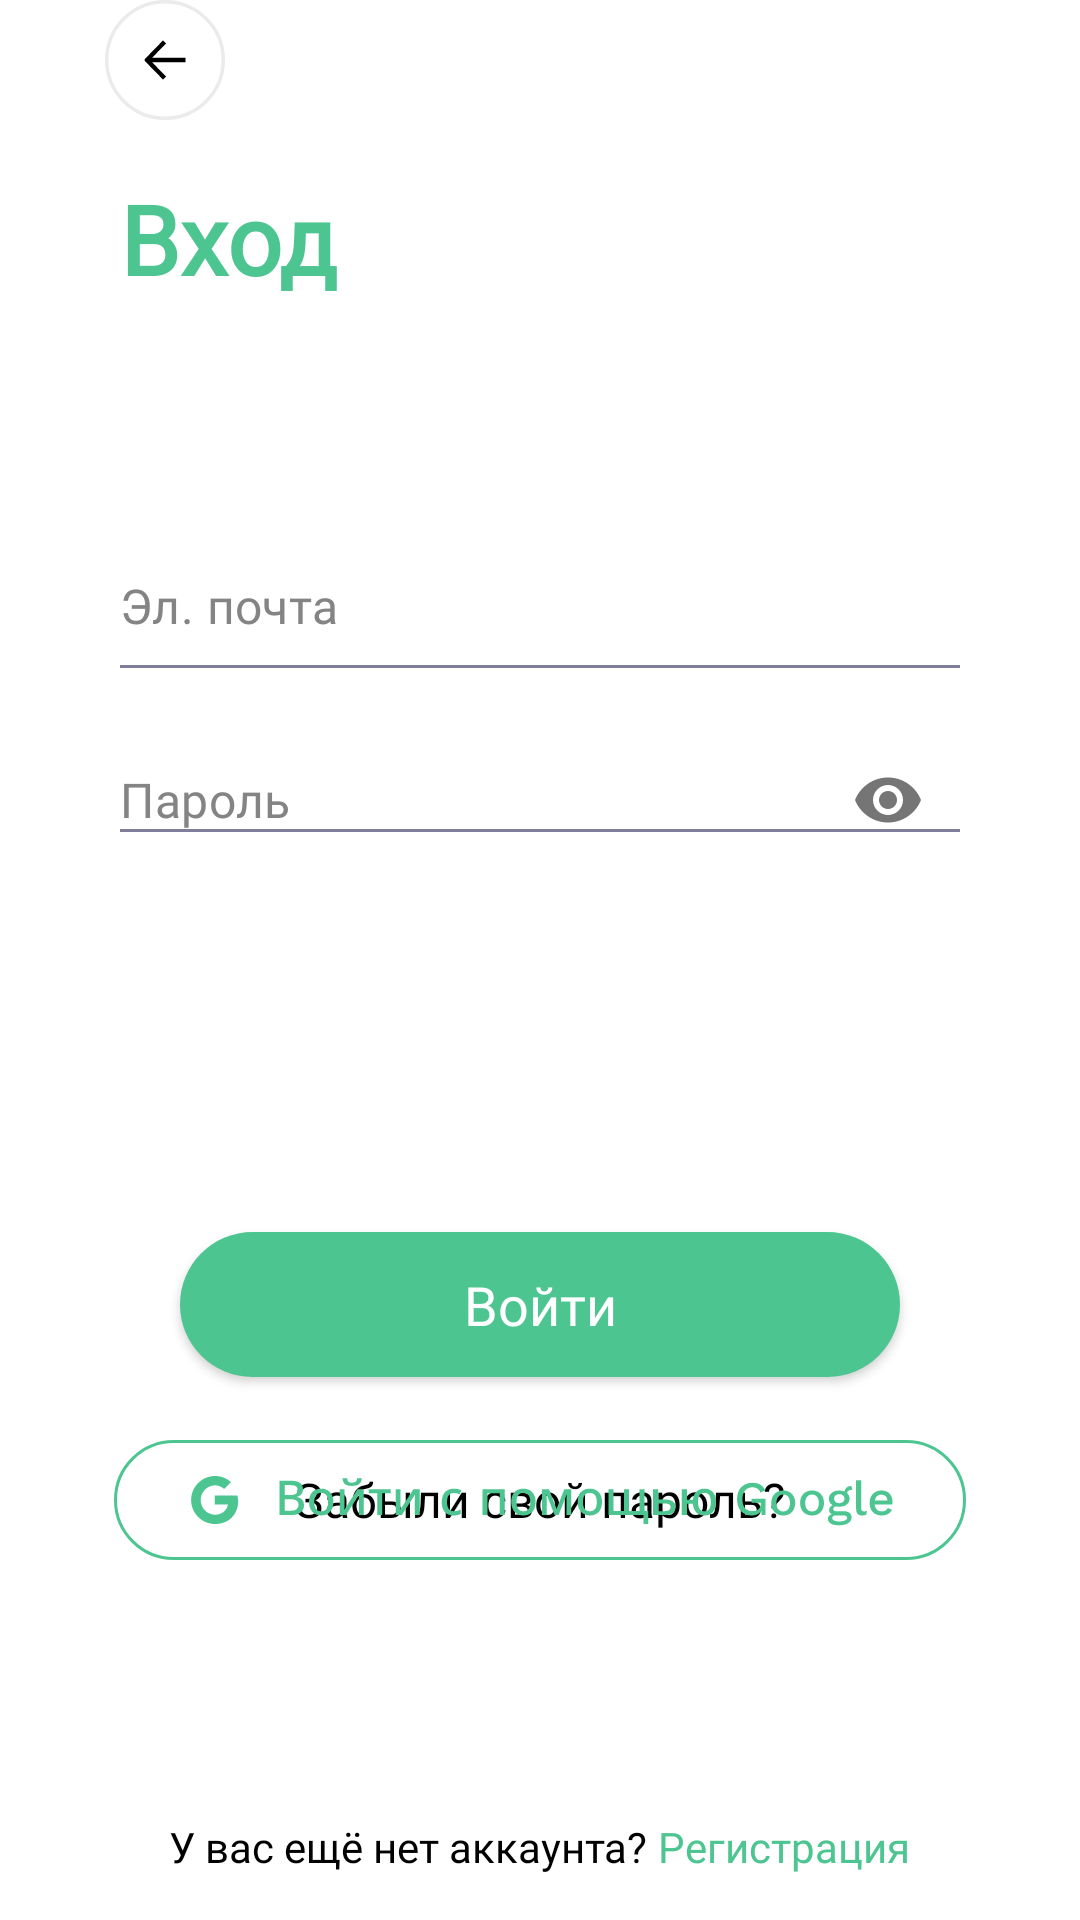

Icon bounding boxes for this 1080 x 1920 phone screenshot, format bbox(x1, y1, x2, y2):
back: bbox(144, 40, 186, 80)
